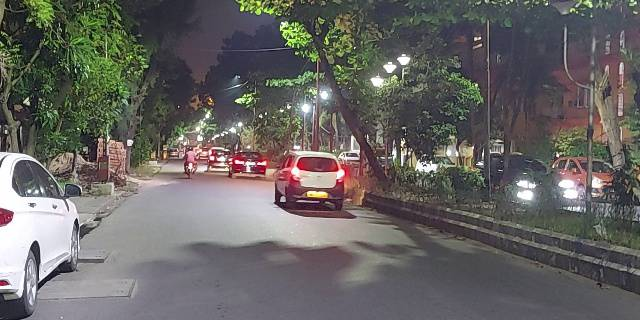Car: (272, 149, 345, 210), (225, 150, 271, 182)
Motorbike: (180, 143, 199, 182)
